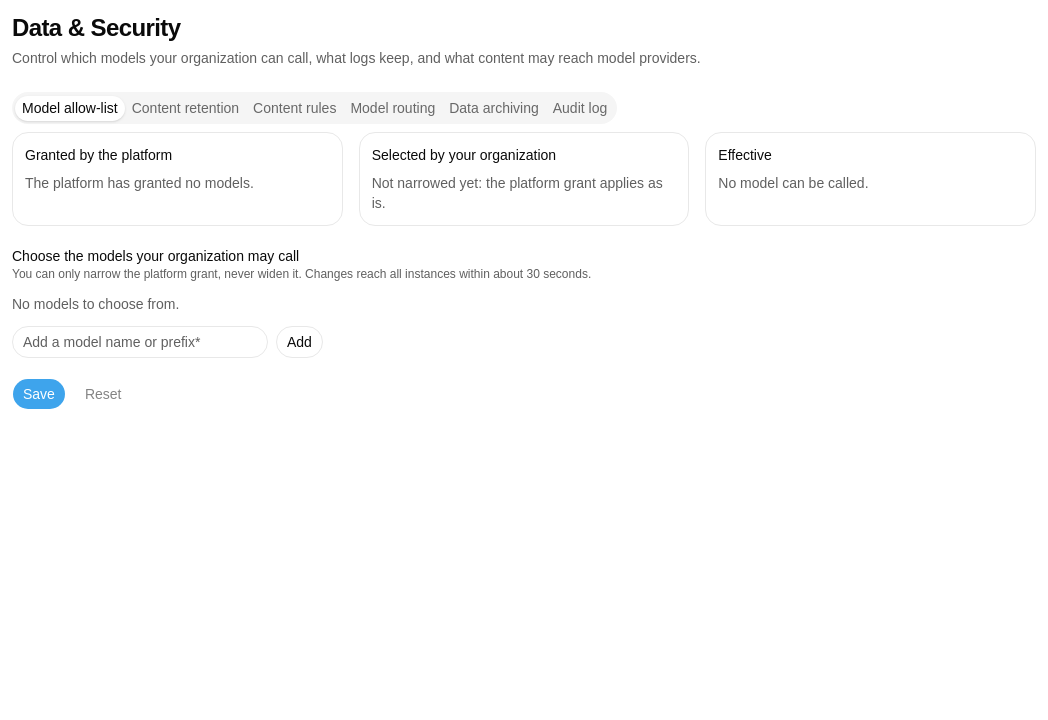
it: decision routing tab › stops adding candidates at 32
Step 1. Click the tab "Model routing" → (393, 108), box [343,96,442,120]
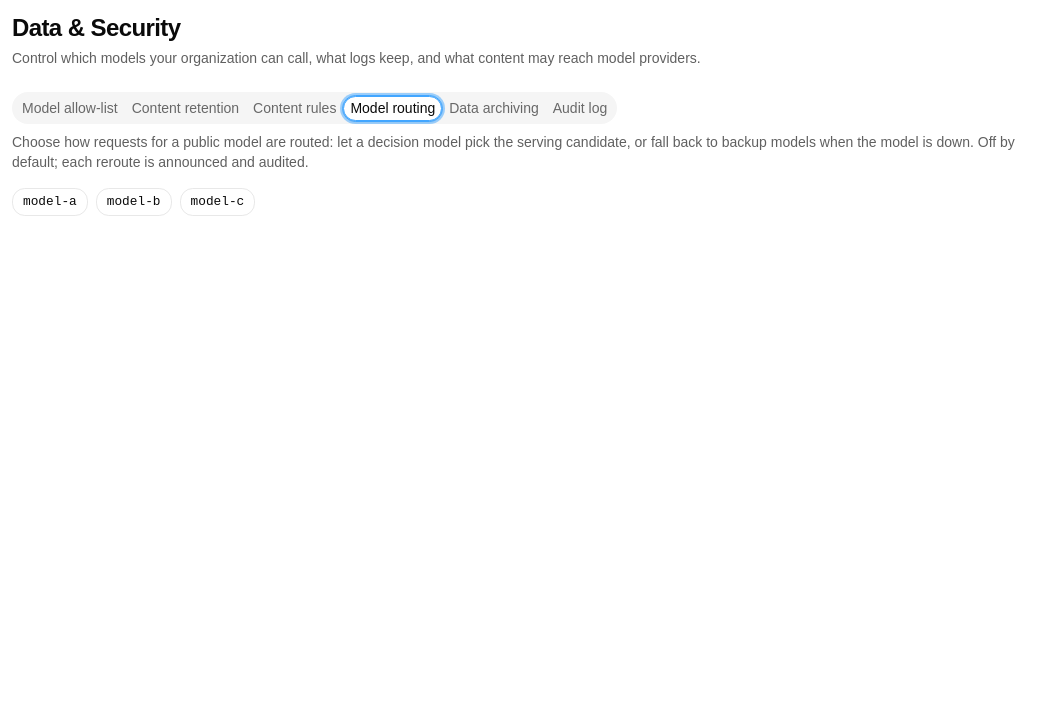
Step 2. Click the button "model-a" → (50, 202), box [12,188,88,216]
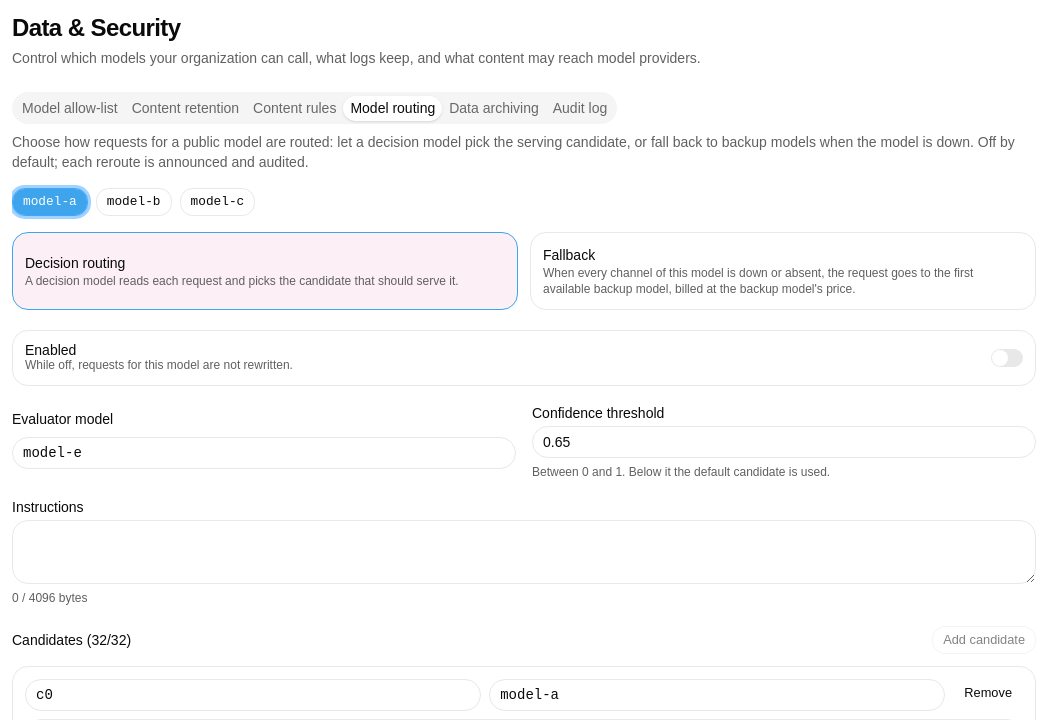
Now the button "Add candidate" is disabled, box [932,626,1036,654]
Now the heading "Candidates (32/32)" is shown, box [12,630,131,650]
